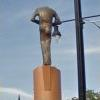Statue: (23, 3, 72, 68)
